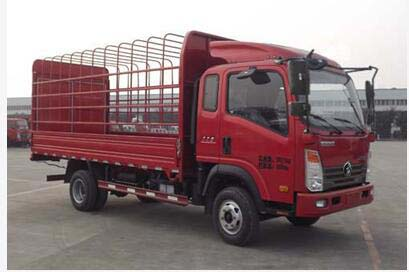smalltruck: (28, 30, 378, 243)
